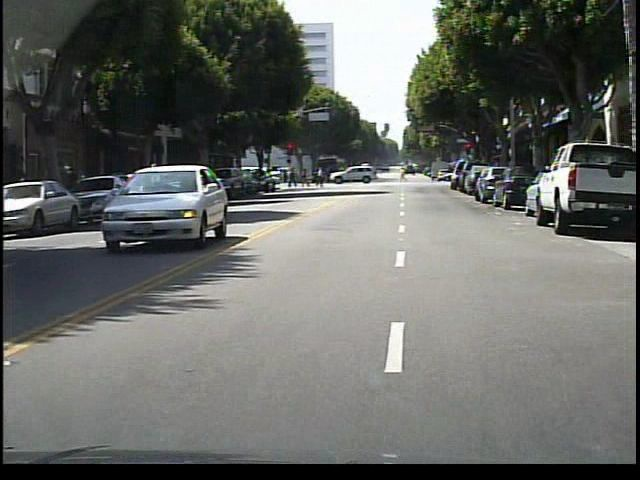person: (313, 163, 333, 193)
